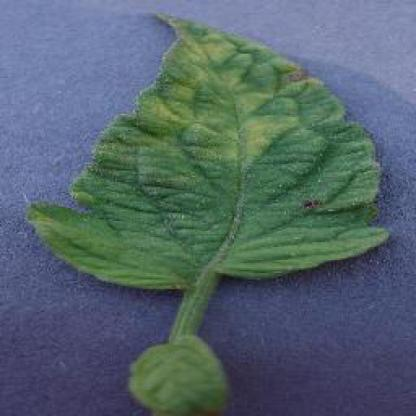Tomato_Leaf_Mold: (30, 13, 389, 284)
